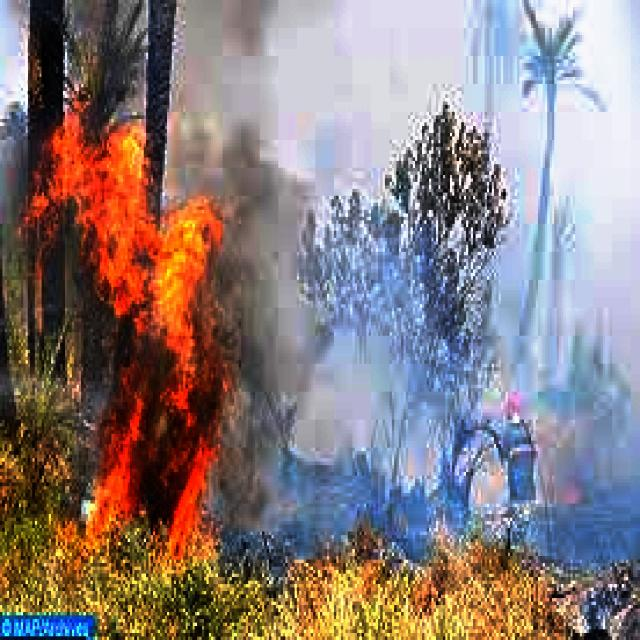api: (93, 211, 222, 558), (39, 101, 147, 255)
asap: (218, 113, 347, 556)
